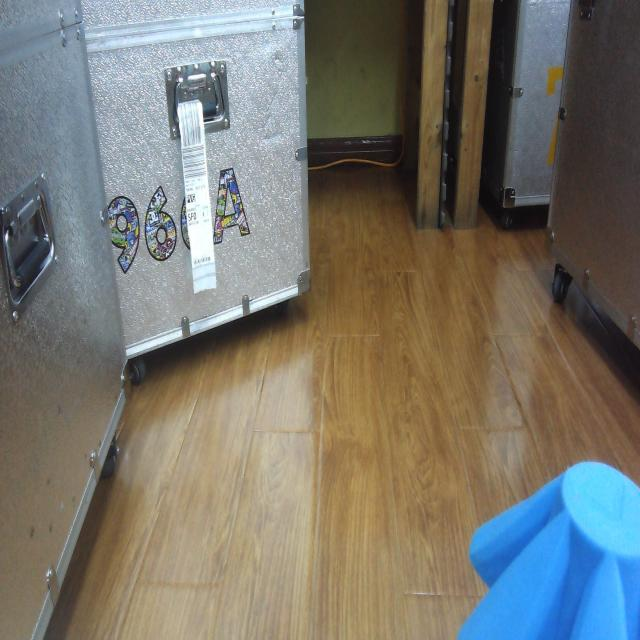zblue-Stake-Head: (457, 460, 640, 639)
